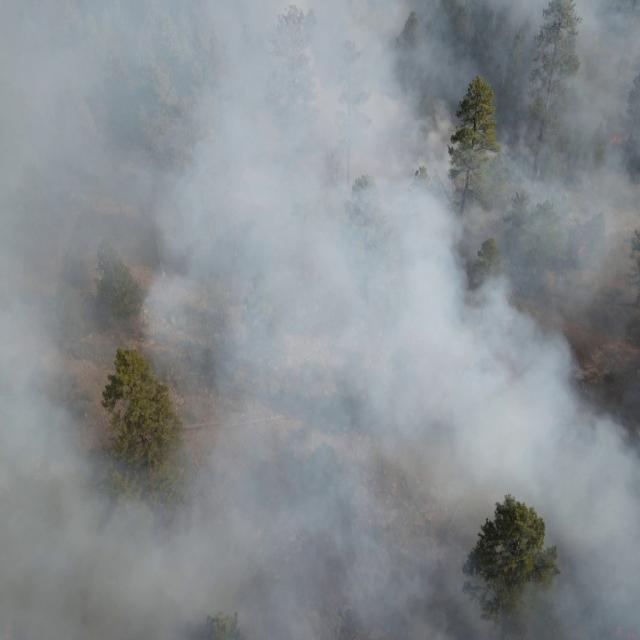fire: (608, 132, 632, 146)
smoke: (0, 0, 452, 640), (496, 76, 640, 500), (452, 126, 496, 502), (451, 0, 640, 75), (544, 499, 640, 640), (451, 505, 498, 640), (498, 574, 544, 640), (452, 75, 468, 125), (522, 500, 542, 514), (485, 76, 495, 82)
